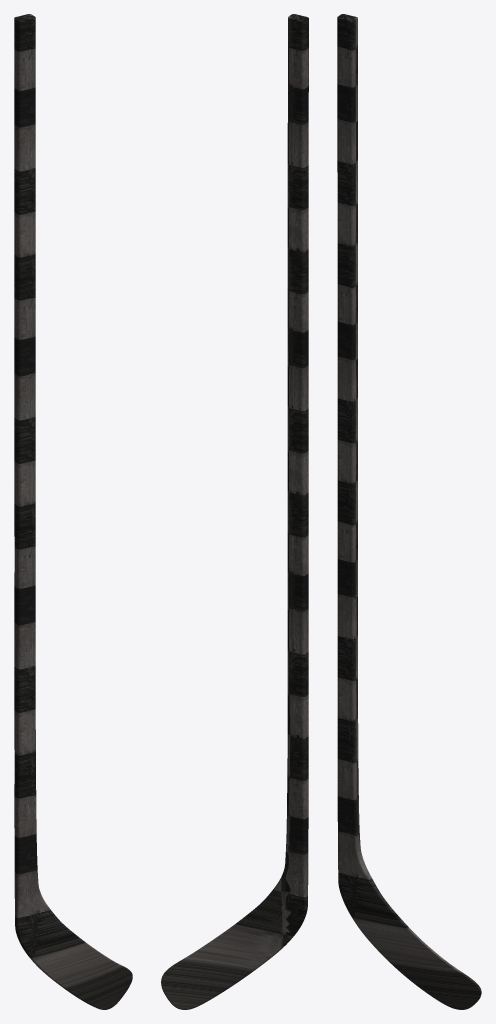
3 renders of one model, left to right at view 1: azimuth 30°, elevation 25°; view 2: azimuth 150°, elevation 25°; view 3: azimuth 330°, elevation 25°, orthographic. The views are drawn at different scales.
Parts seen in each view (by area): view 1: geometry_0; view 2: geometry_0; view 3: geometry_0.
Part boxes in pixels (bbox=[...]): geometry_0: bbox=[14, 14, 132, 1009]; geometry_0: bbox=[161, 14, 308, 1009]; geometry_0: bbox=[337, 14, 481, 1009].
Bounding box in the file's own units: 223 × 1650 × 63.33.
Materials: 1 (1 with a texture image).
